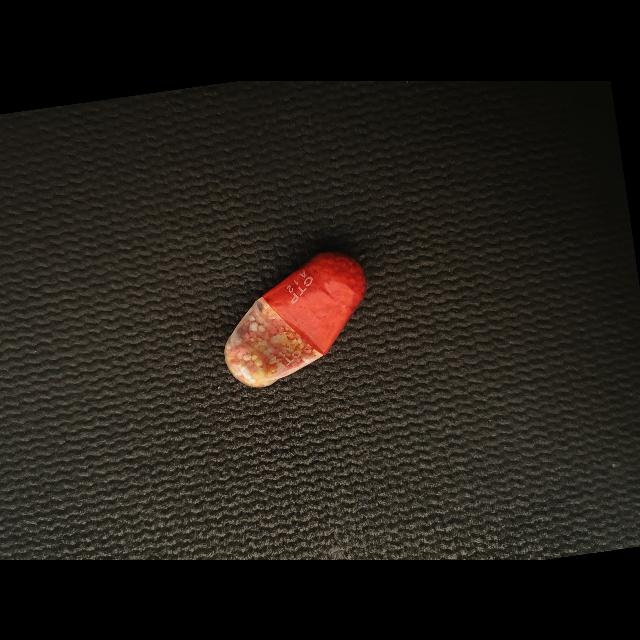Defective Capsule: (224, 252, 367, 387)
